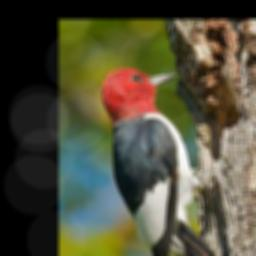Woodpecker: (102, 64, 223, 256)
